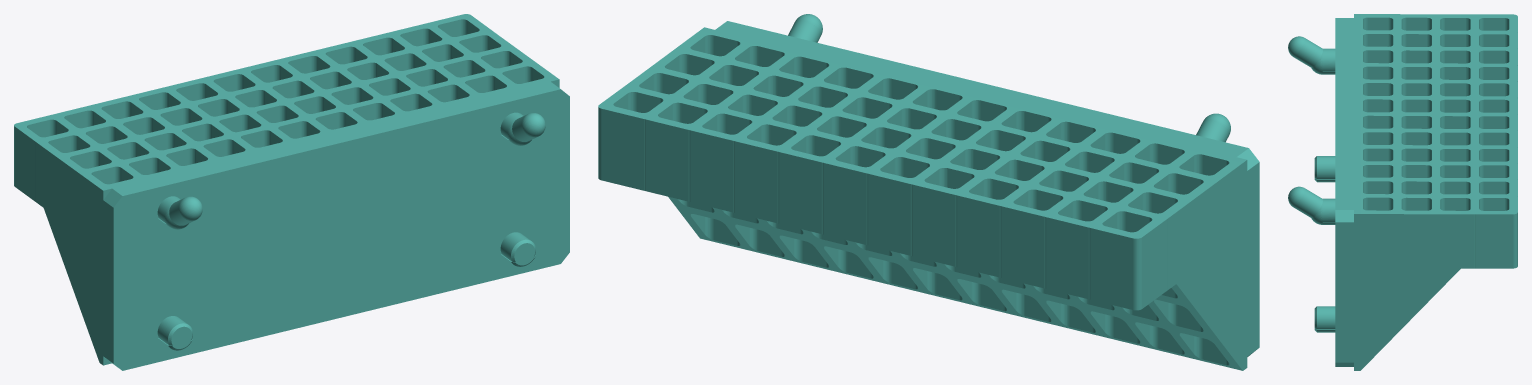
Rendered from part-arrays-p01-48__v-srcc87b0346c1__pegstr-array-p01-48-small-square-seats__installed__fit-9c7be3cc78.glb.
The picture shows the model from 3 angles, left to right: view 1: azimuth 30°, elevation 25°; view 2: azimuth 150°, elevation 25°; view 3: azimuth 270°, elevation 25°; orthographic projection. The views are drawn at different scales.
Visible parts, largest first — view 1: Actual holder mesh; view 2: Actual holder mesh; view 3: Actual holder mesh.
Boxes of the visible parts, left/top/right/bottom form: Actual holder mesh: left=14, top=14, right=569, bottom=370; Actual holder mesh: left=598, top=14, right=1259, bottom=370; Actual holder mesh: left=1288, top=14, right=1517, bottom=370.
Size of the model in its own units: 0.1014 by 0.0374 by 0.0492.
